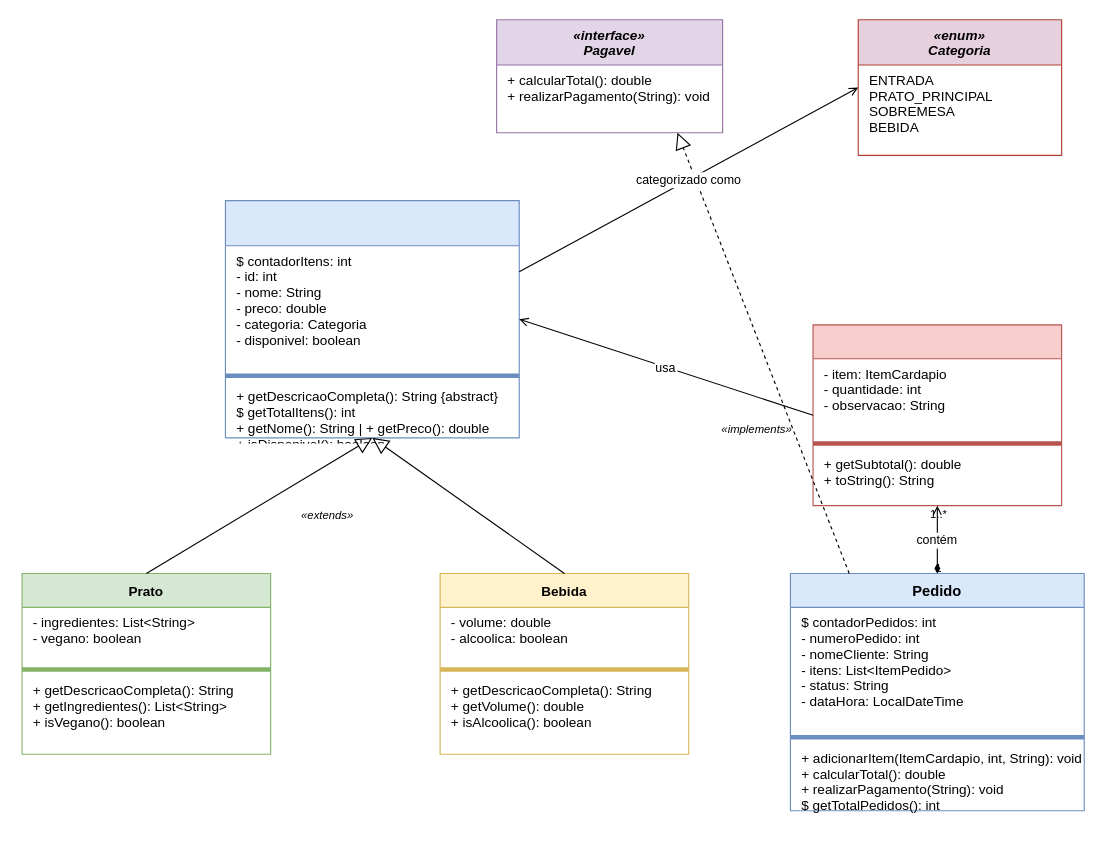
Some shapes in this 1105 by 848 pixel diagram are drawn without their labels. Each missing label, with the box of its shape:
ItemPedido: (812, 324, 1062, 506)
«abstract» ItemCardapio: (224, 199, 519, 438)
